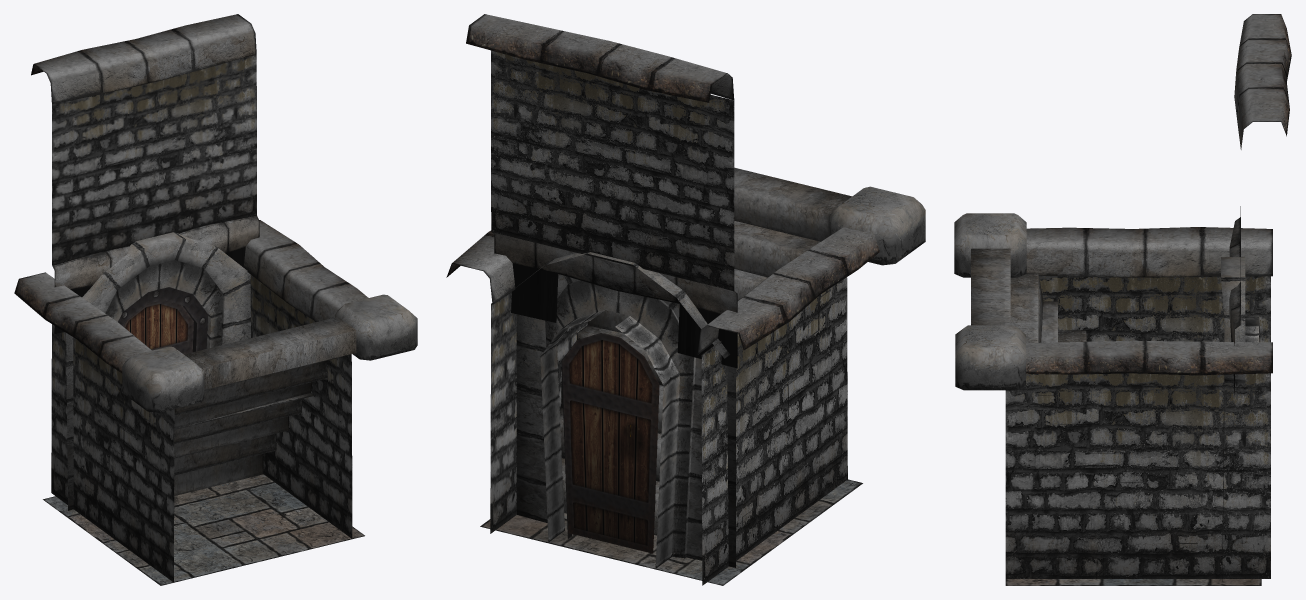
The model's file is stairs_down.obj.
3 views of the same model, side by side, from view 1: azimuth 30°, elevation 25°; view 2: azimuth 150°, elevation 25°; view 3: azimuth 270°, elevation 25° (orthographic). The views are drawn at different scales.
Visible parts, largest first — view 1: Grim_Bear_Stairs_Down; view 2: Grim_Bear_Stairs_Down; view 3: Grim_Bear_Stairs_Down.
Boxes of the visible parts, x1=… form: Grim_Bear_Stairs_Down: x1=14, y1=14, x2=417, y2=585; Grim_Bear_Stairs_Down: x1=446, y1=14, x2=925, y2=585; Grim_Bear_Stairs_Down: x1=954, y1=14, x2=1291, y2=585.
Size of the model in its own units: 338 by 512 by 338.
6 materials, 6 textured.
